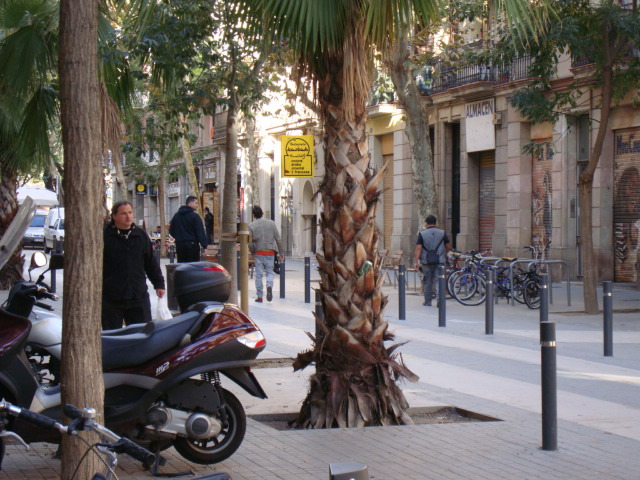deflection: (172, 189, 201, 231)
undeflect: (104, 202, 152, 255)
